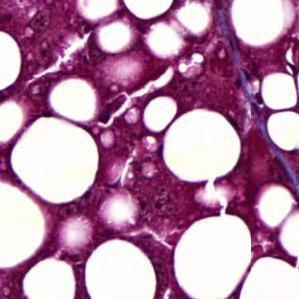steatosis: (9, 115, 98, 205), (83, 238, 156, 299), (0, 182, 45, 271), (22, 257, 76, 299), (262, 73, 299, 111), (0, 30, 21, 91), (268, 112, 299, 152), (123, 0, 171, 19)
